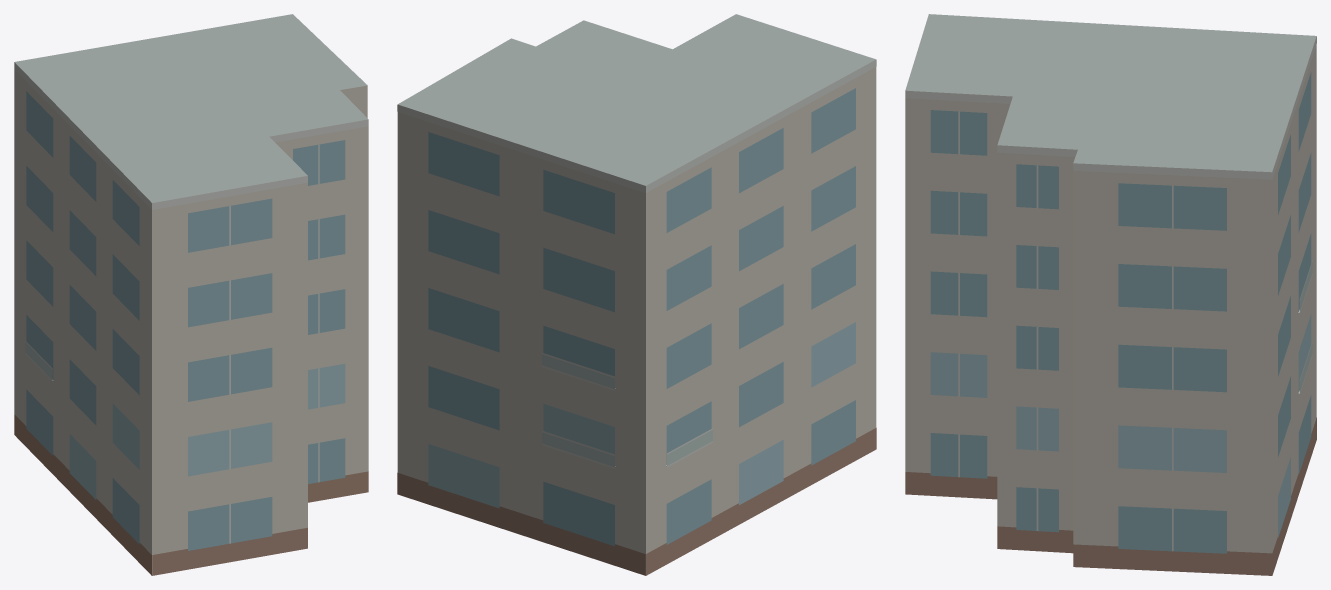
The model's file is survey-upis-32827045.glb.
3 renders of one model, left to right at view 1: azimuth 30°, elevation 25°; view 2: azimuth 150°, elevation 25°; view 3: azimuth 270°, elevation 25°, orthographic. The views are drawn at different scales.
Visible parts, largest first — view 1: survey-upis-32827045.tmp; view 2: survey-upis-32827045.tmp; view 3: survey-upis-32827045.tmp.
Part boxes in pixels (x1,y1,x2,y2): survey-upis-32827045.tmp: (14,14,368,575); survey-upis-32827045.tmp: (397,14,876,575); survey-upis-32827045.tmp: (905,14,1316,575).
Bounding box in the file's own units: 11.1 × 13.2 × 12.21.
